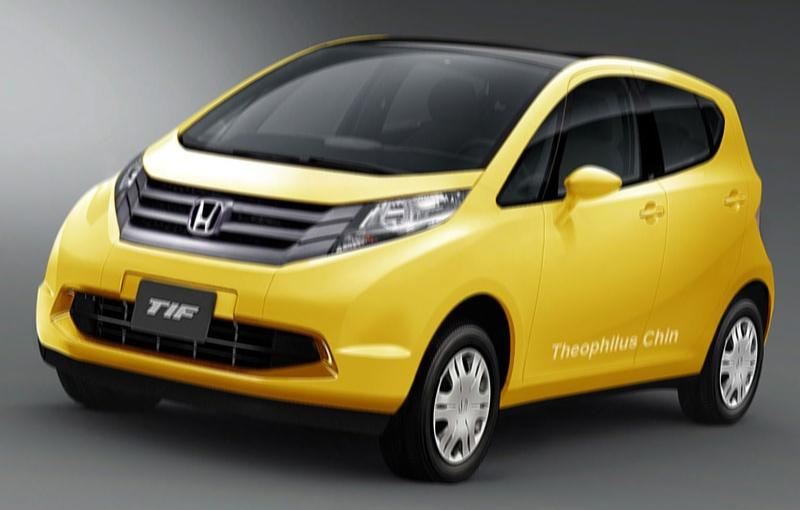Car hood: (132, 124, 490, 211)
Fender - -F-L-: (403, 127, 545, 407)
Front bumper: (33, 168, 468, 442)
Headlight - -L-: (328, 185, 473, 258)
Passenger-s door - -F-L-: (519, 58, 668, 414)
Passenger-s door - -R-L-: (628, 40, 756, 396)
Side bumper - -L-: (489, 345, 706, 443)
Side mirror - -L-: (555, 163, 624, 227)
